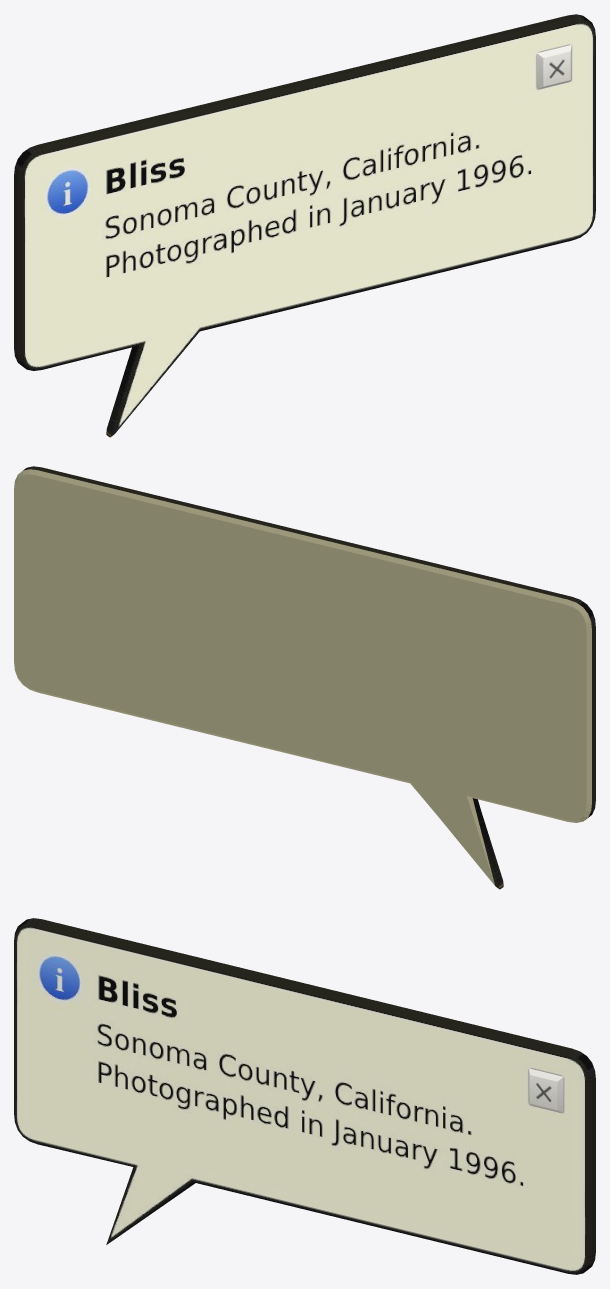
Rendered from balloon-sonoma.glb.
3 views of the same model, one above another, from view 1: azimuth 30°, elevation 25°; view 2: azimuth 150°, elevation 25°; view 3: azimuth 330°, elevation 25° (orthographic).
Visible parts, largest first — view 1: balloon; view 2: balloon; view 3: balloon.
Boxes of the visible parts, bbox=[...] form: balloon: bbox=[14, 14, 595, 437]; balloon: bbox=[14, 466, 595, 889]; balloon: bbox=[14, 918, 595, 1274].
Bounding box in the file's own units: 0.506 × 0.2565 × 0.016.
Materials: 1 (1 with a texture image).
